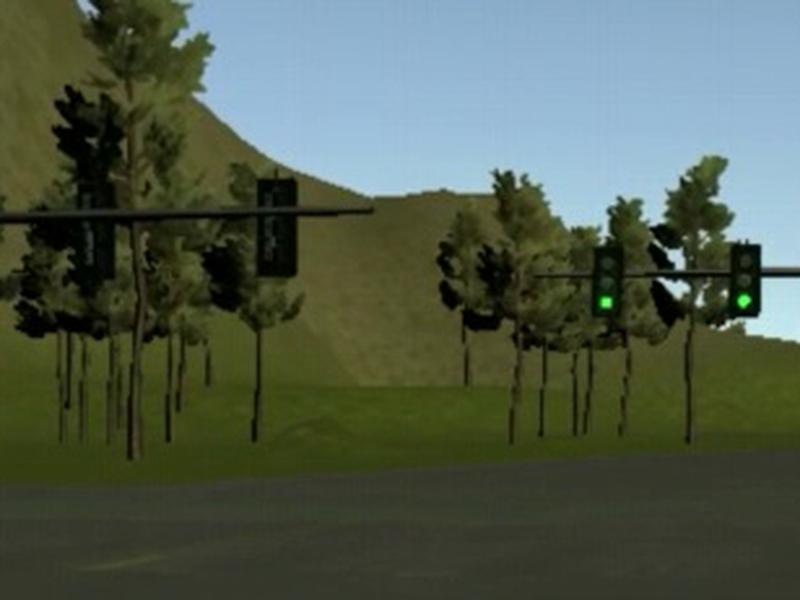Green: (729, 244, 760, 317), (591, 247, 622, 318)
